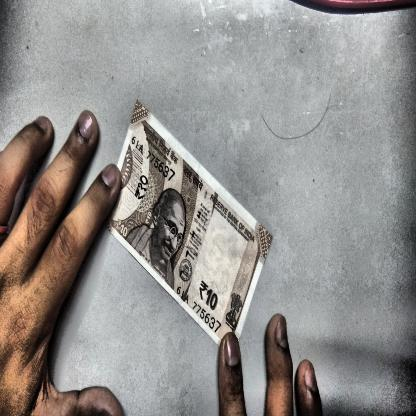Rs10: (194, 275, 222, 317)
